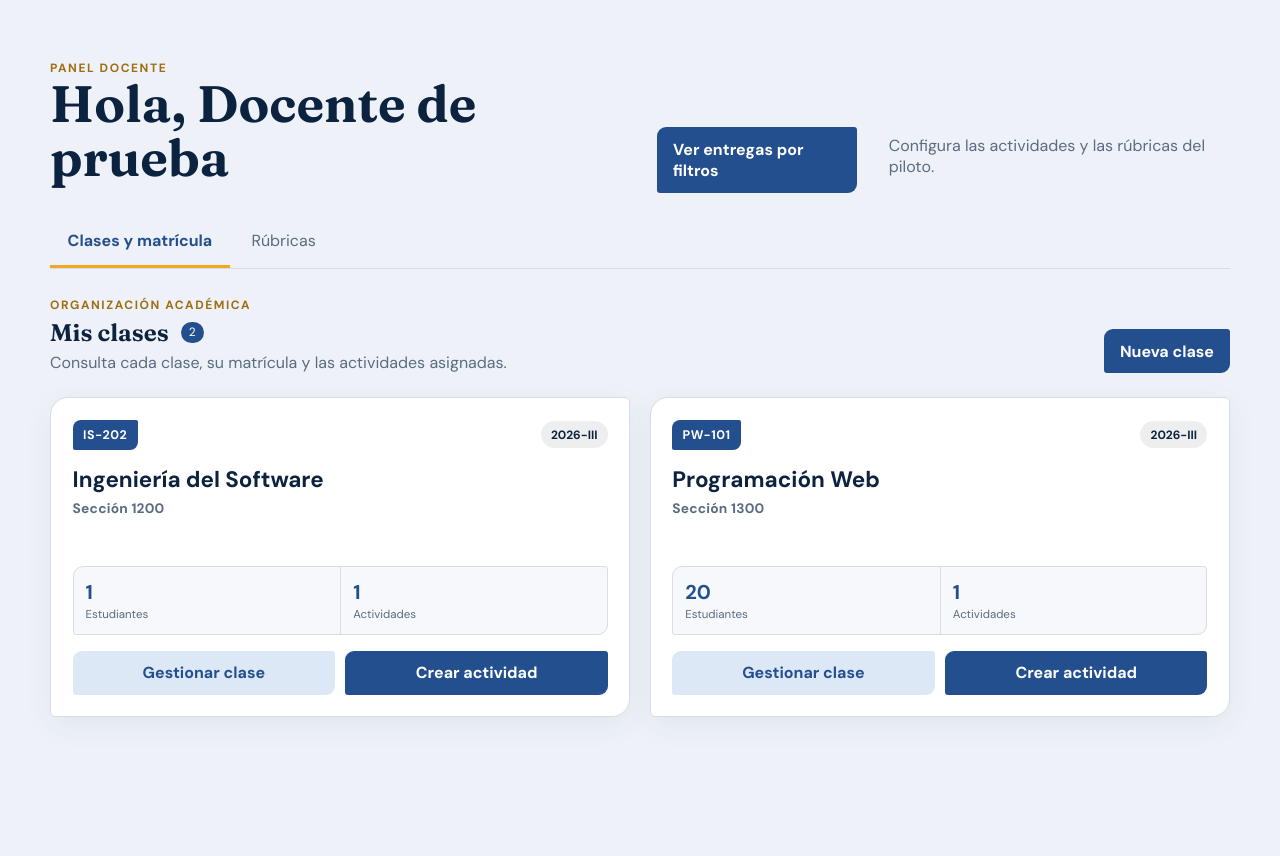
Scenario: TeacherDashboard - organización y eliminación de actividades › confirma y retira un estudiante de la clase actualizando la matrícula
Click the button "Gestionar clase" below "Sección 1200" at point(204, 673), box [73,651,335,695]
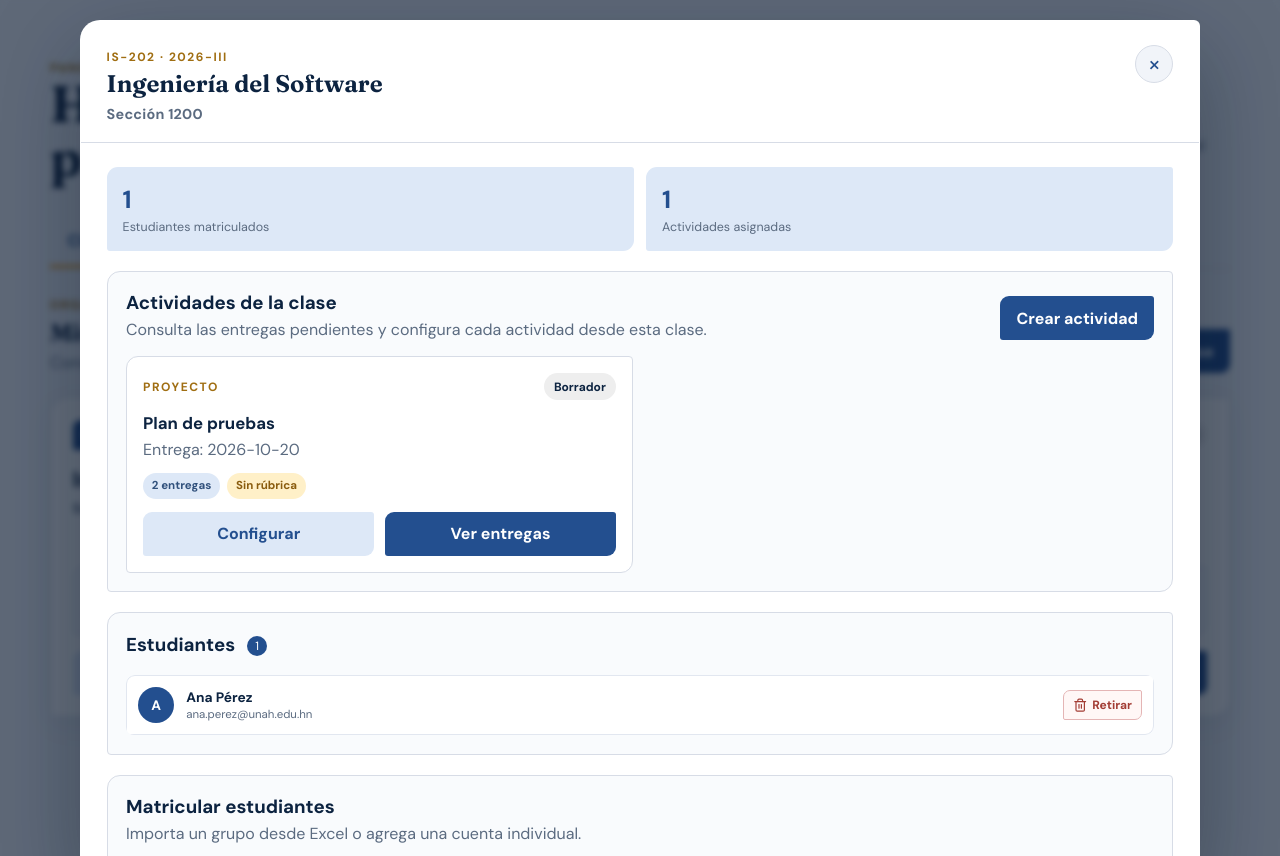
Expected: the element with class "roster-student-info" shows "Ana Pérez", [186,688,253,706]
Click the button with class "roster-remove-button" at point(1103, 705), box [1063,690,1142,720]
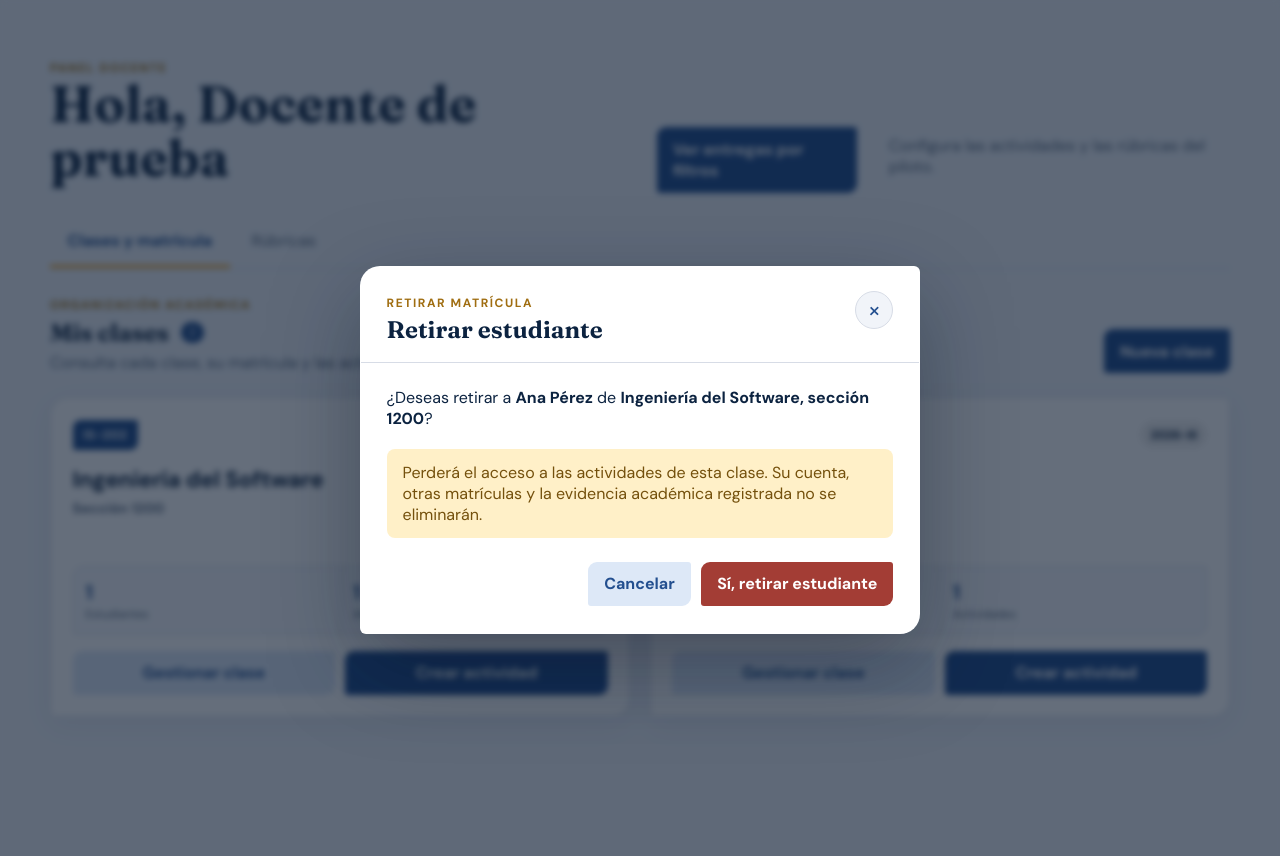
Expected: the dialog shows "Ana Pérez", [516,387,593,408]
Expected: the dialog shows "evidencia académica registrada no se eliminarán", [403,462,849,525]
Click the button with class "remove-student-confirm" at point(797, 584), box [701,562,893,606]
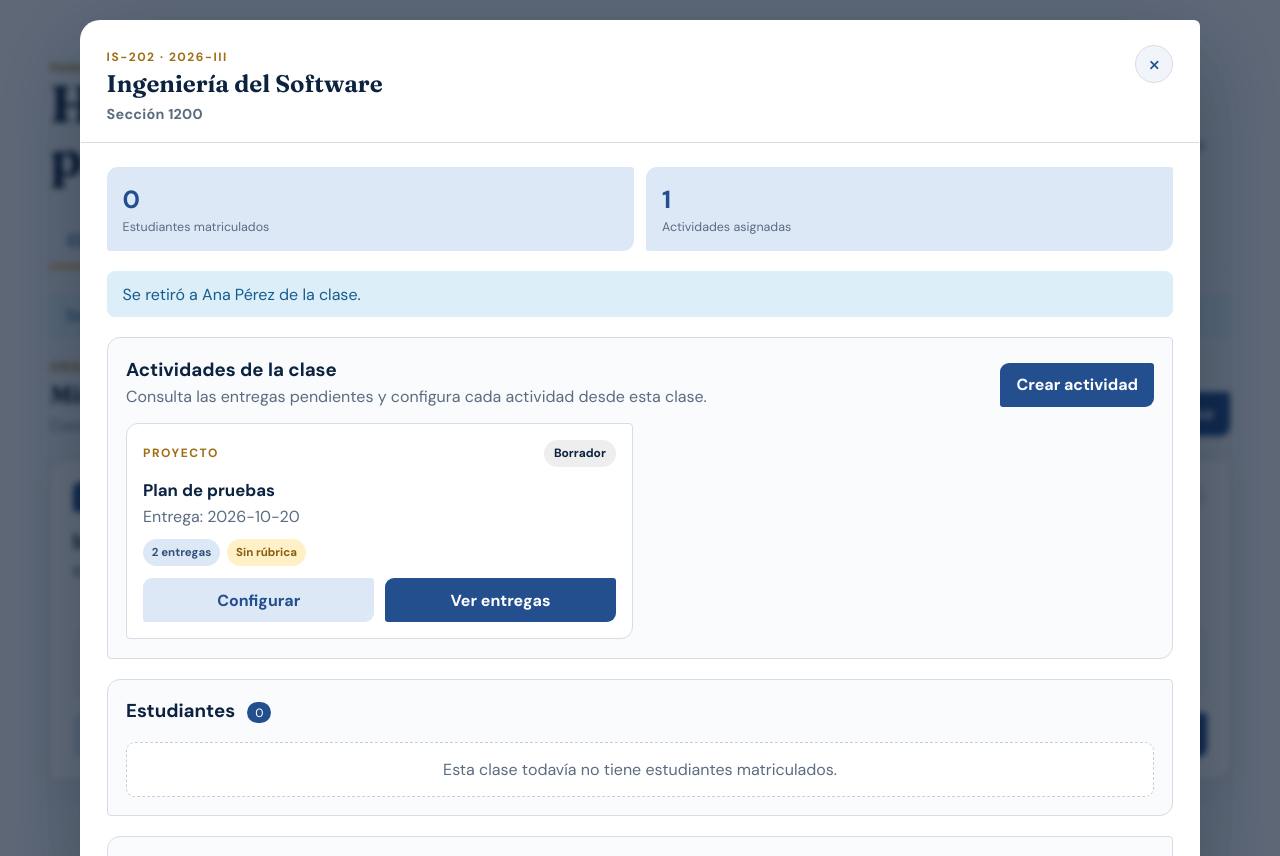
Expected: the text "Se retiró a Ana Pérez de la clase" is shown, [66,306,304,326]
Expected: the text "Esta clase todavía no tiene estudiantes matriculados" is shown, [443,758,837,780]
